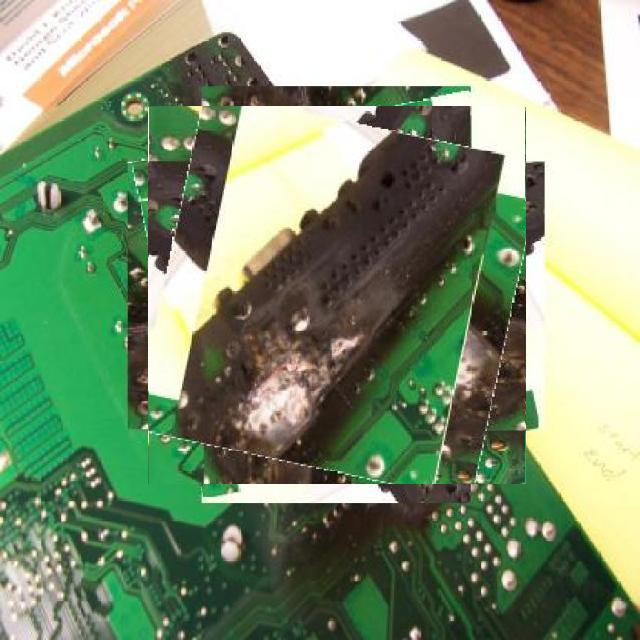damged: (148, 107, 526, 484)
